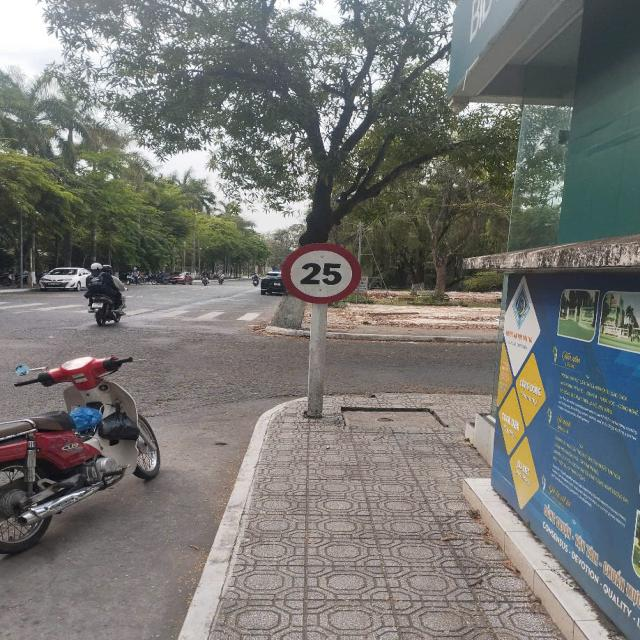Tre_Em: (280, 242, 362, 304)
